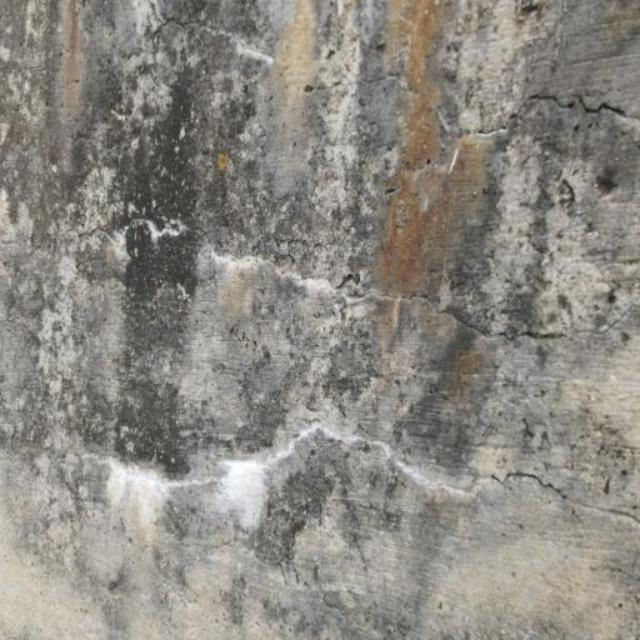D01: (106, 418, 477, 525)
